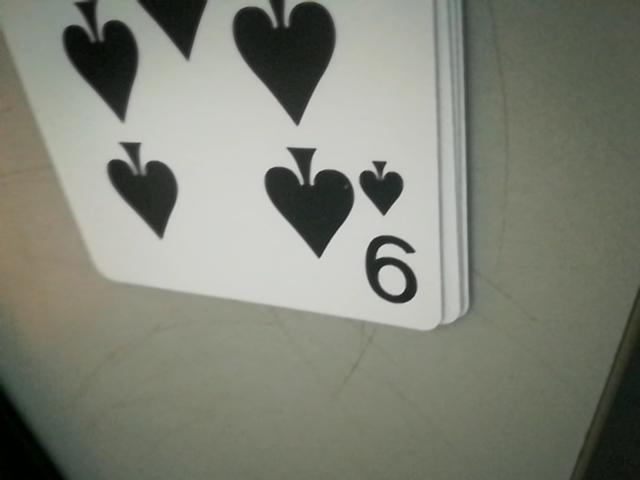ht 9: (358, 162, 428, 316)
